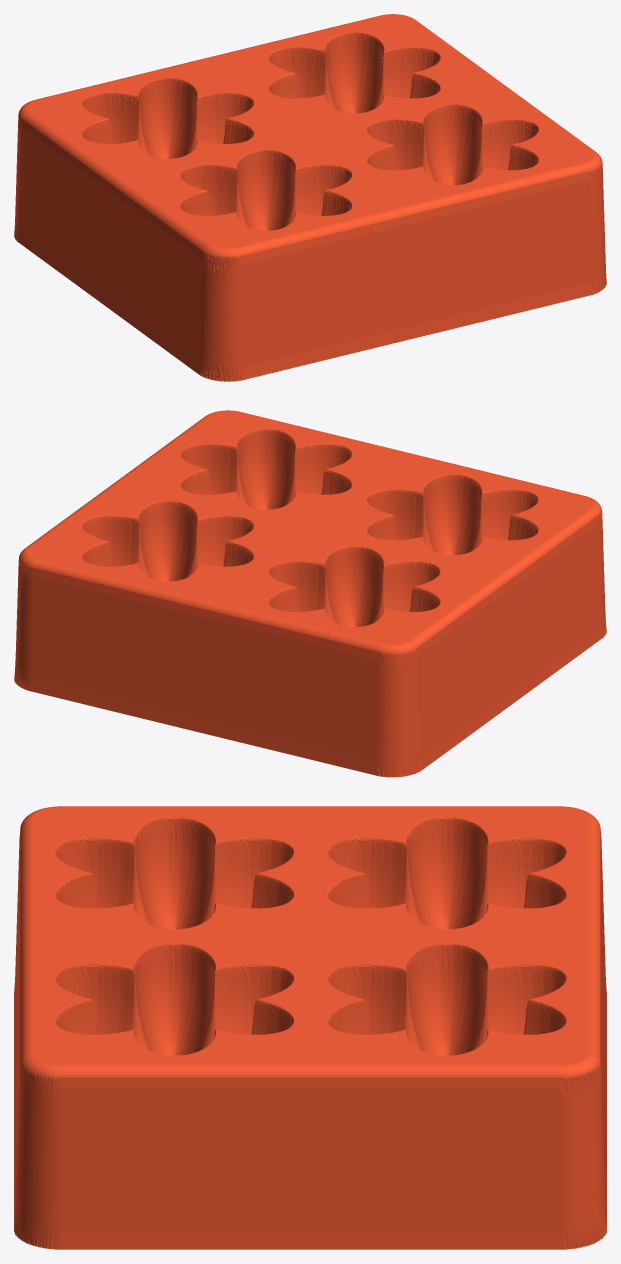
Rendered from mold.glb.
3 views of the same model, one above another, from view 1: azimuth 30°, elevation 25°; view 2: azimuth 150°, elevation 25°; view 3: azimuth 270°, elevation 25° (orthographic). The views are drawn at different scales.
Parts seen in each view (by area): view 1: geometry_0; view 2: geometry_0; view 3: geometry_0.
Part boxes in pixels (bbox=[...]): geometry_0: bbox=[14, 14, 606, 381]; geometry_0: bbox=[14, 410, 606, 777]; geometry_0: bbox=[14, 806, 606, 1249].
Bounding box in the file's own units: 0.1248 × 0.0377 × 0.1146.
